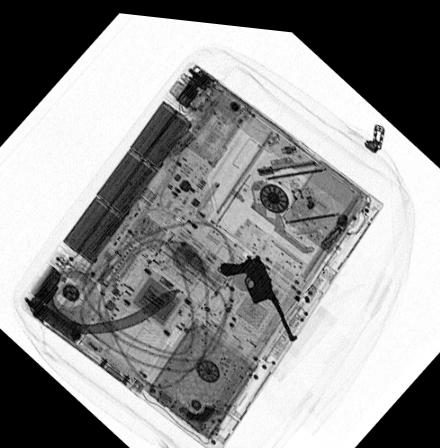Gun: (222, 248, 298, 337)
